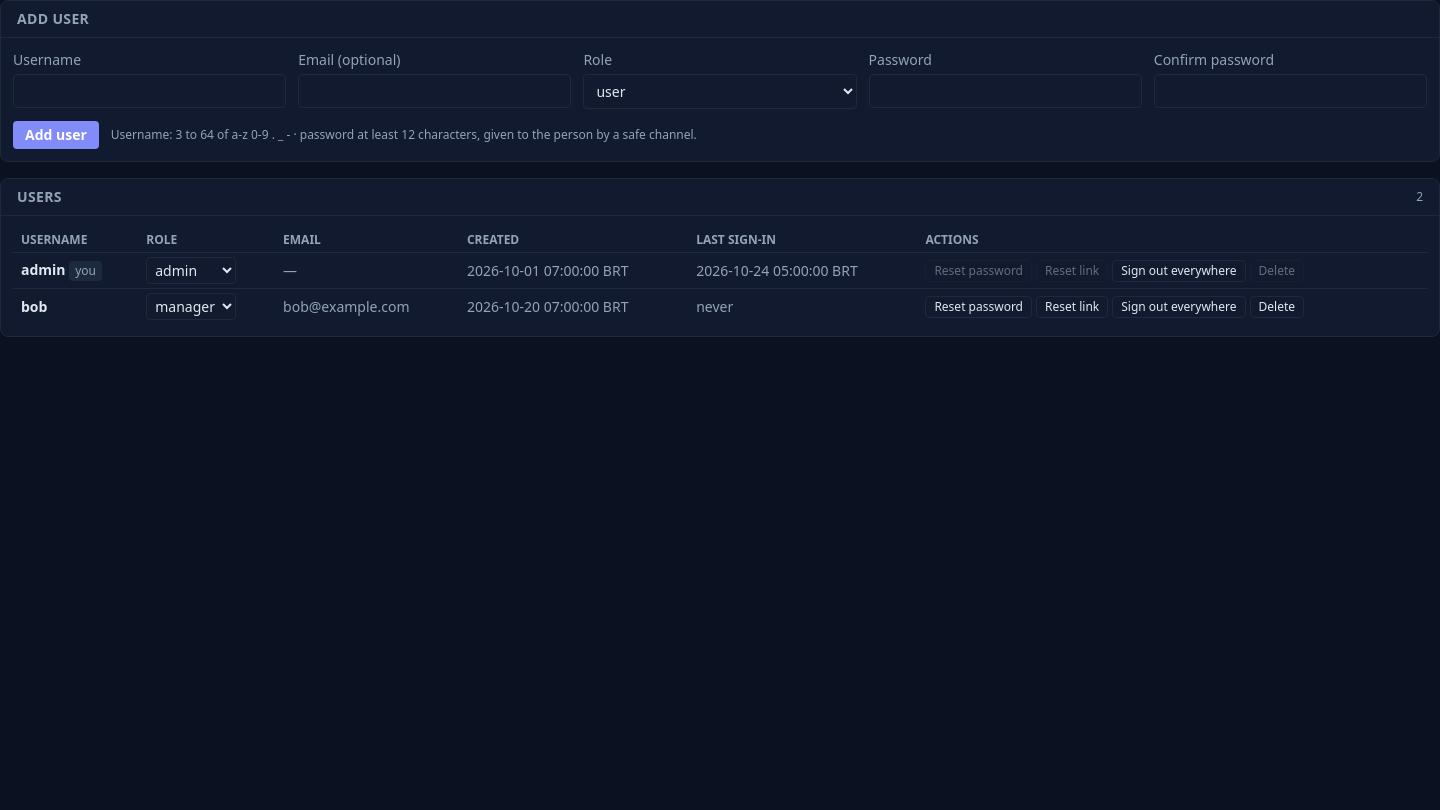
Scenario: Users page › delete asks first: Cancel sends nothing, the confirmation sends DELETE
Click the button "Delete" in the row of "bob@example.com": (1277, 306) [1250, 296, 1304, 318]
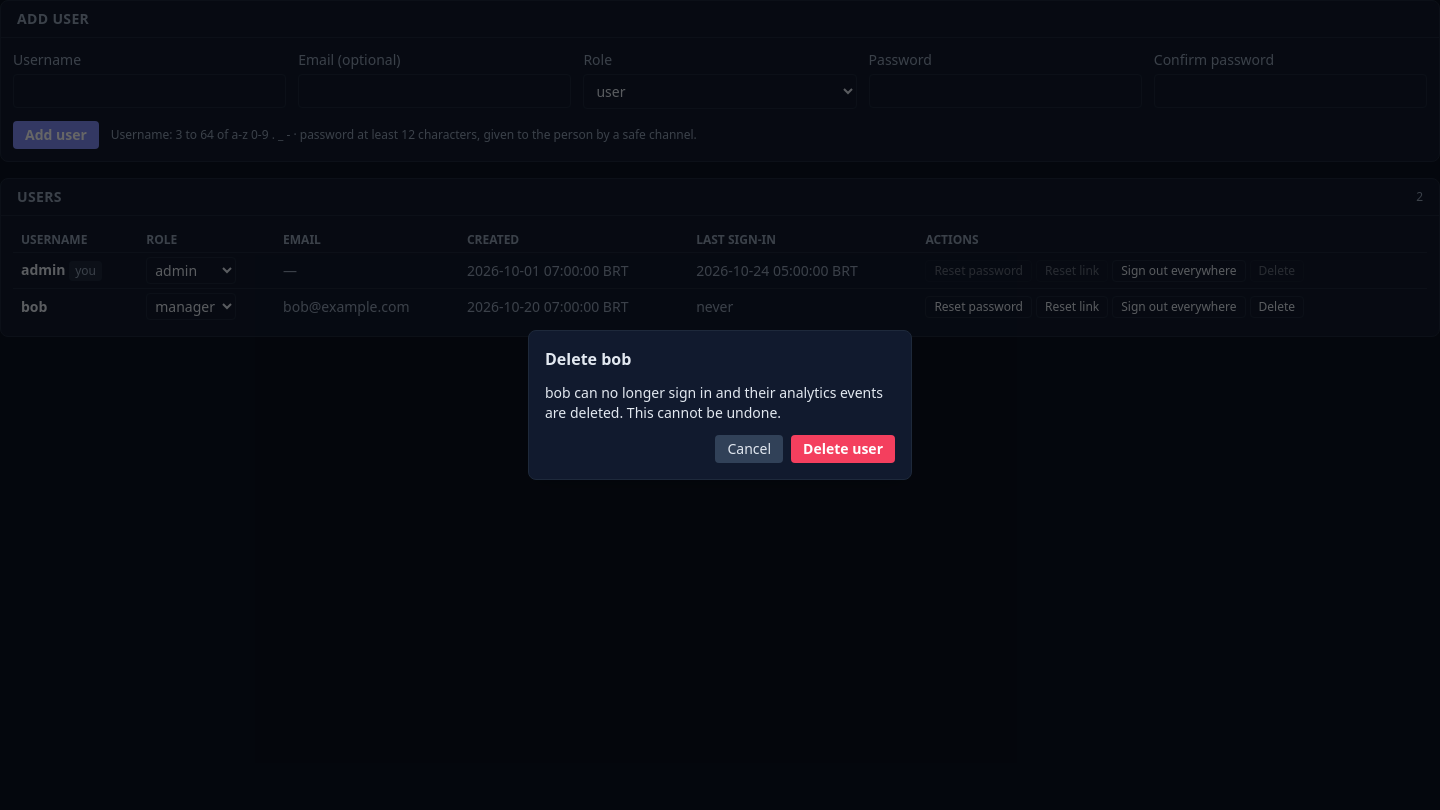
Now the dialog shows "cannot be undone", box [545, 383, 883, 422]
Click the button "Cancel": (749, 449) [715, 435, 783, 463]
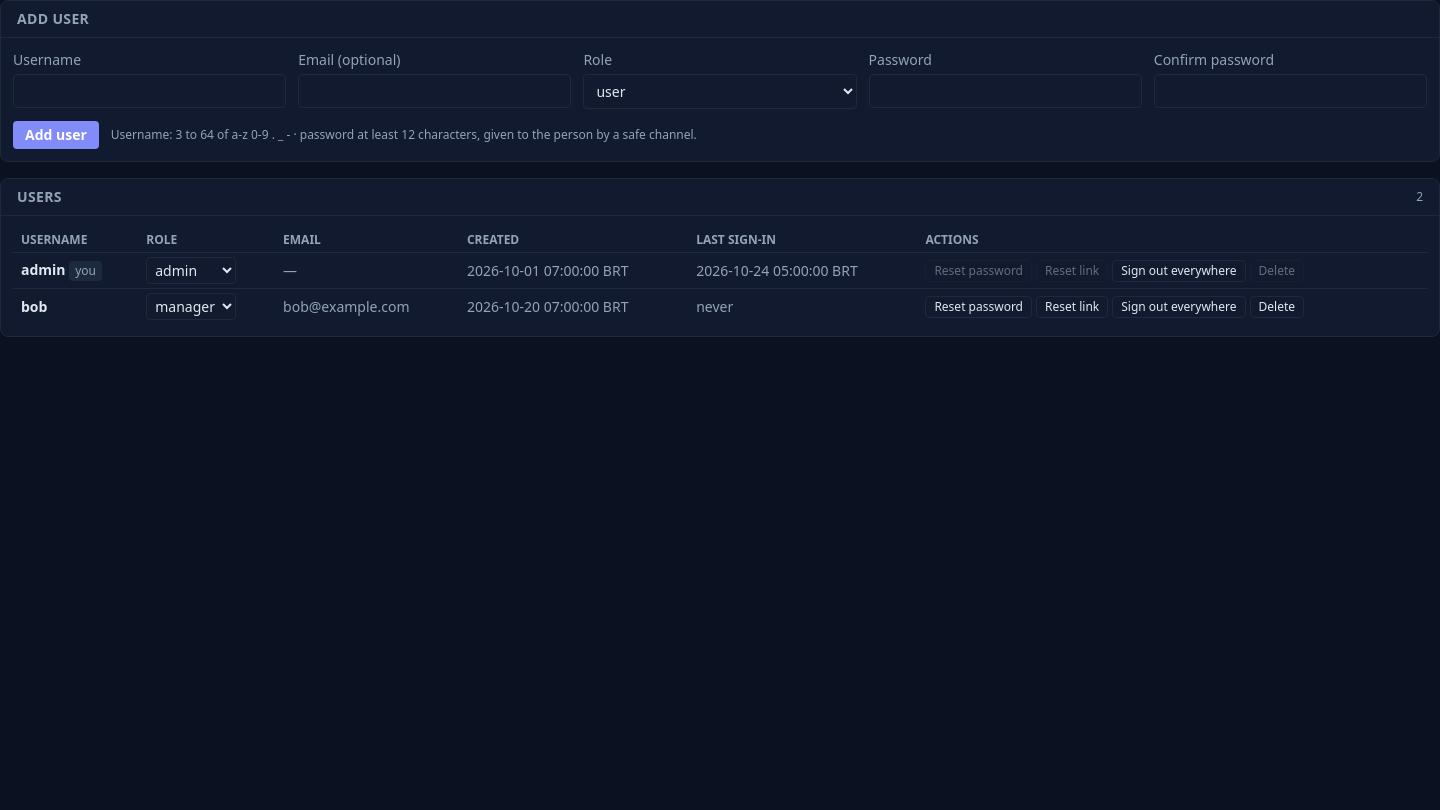
Now the dialog is gone
Click the button "Delete" in the row of "bob@example.com": (1277, 306) [1250, 296, 1304, 318]
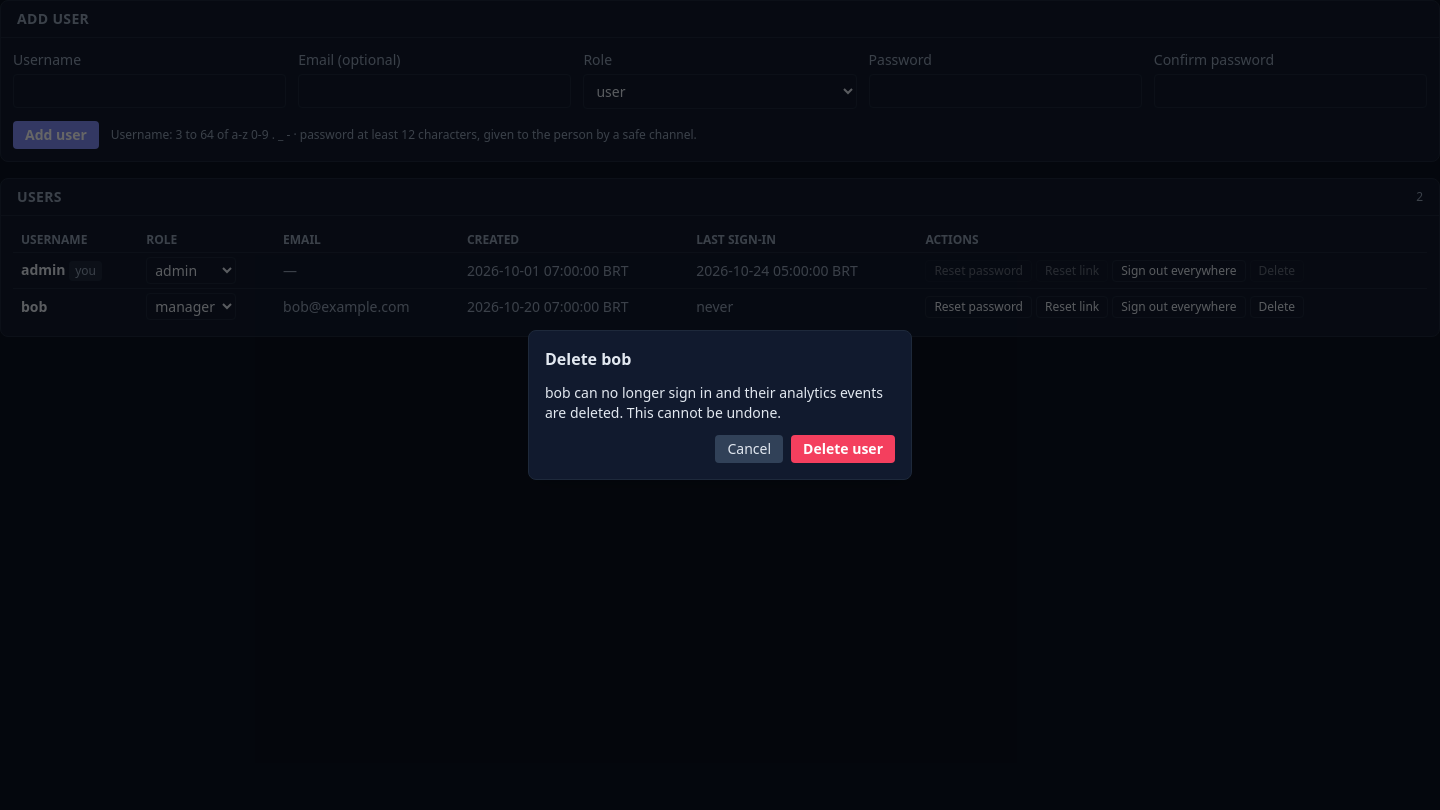
Click the button "Delete user": (843, 449) [791, 435, 895, 463]
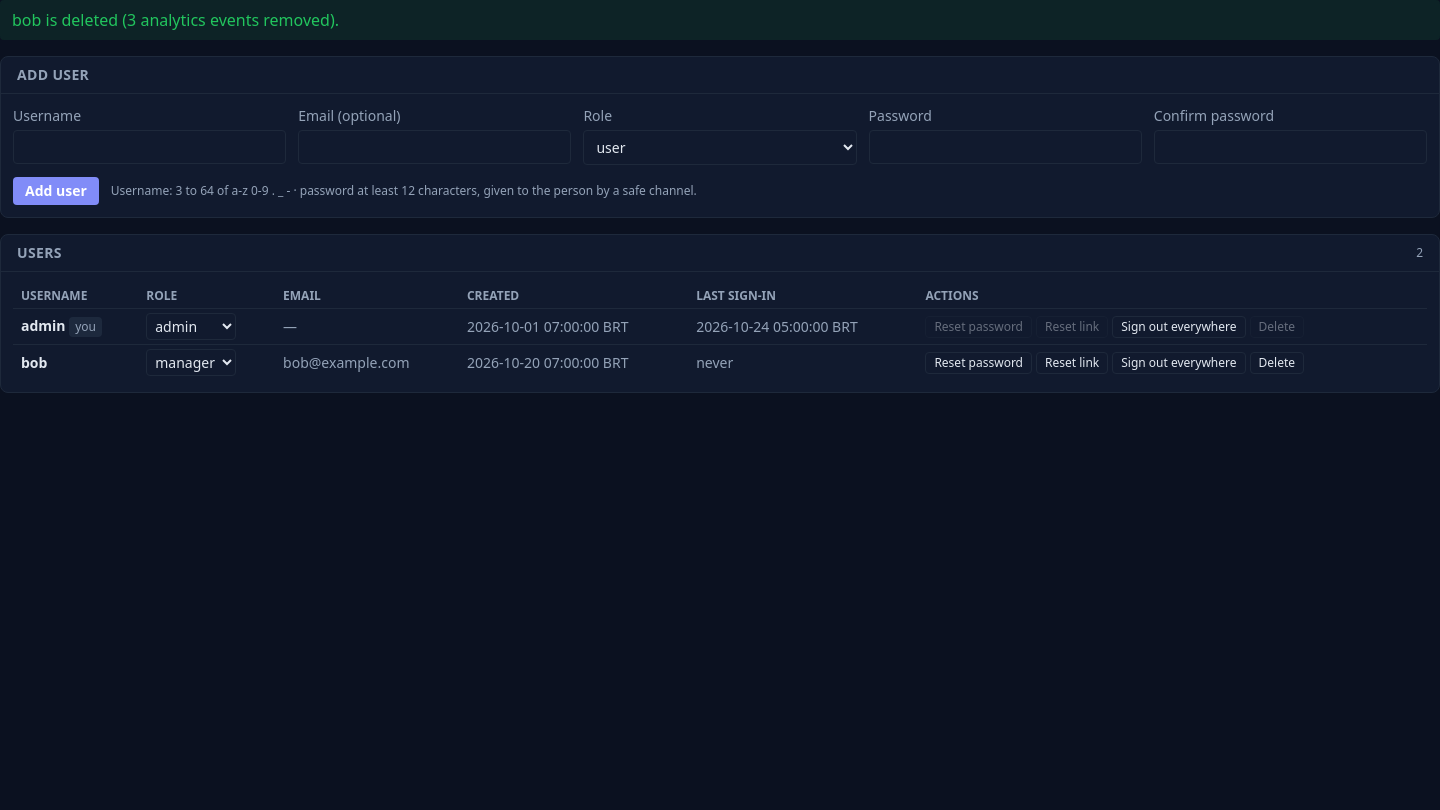
Now the message shows "bob is deleted (3 analytics events removed)", box [12, 9, 339, 31]
